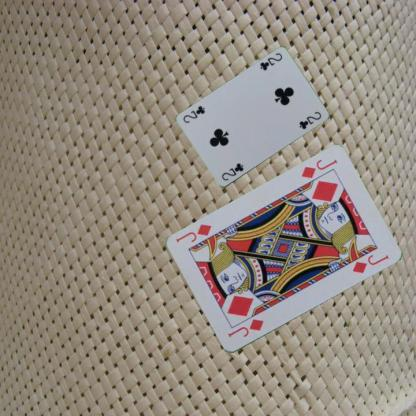2c: (257, 50, 284, 72), (219, 161, 245, 182)
Jd: (298, 157, 339, 180), (225, 317, 265, 339)
